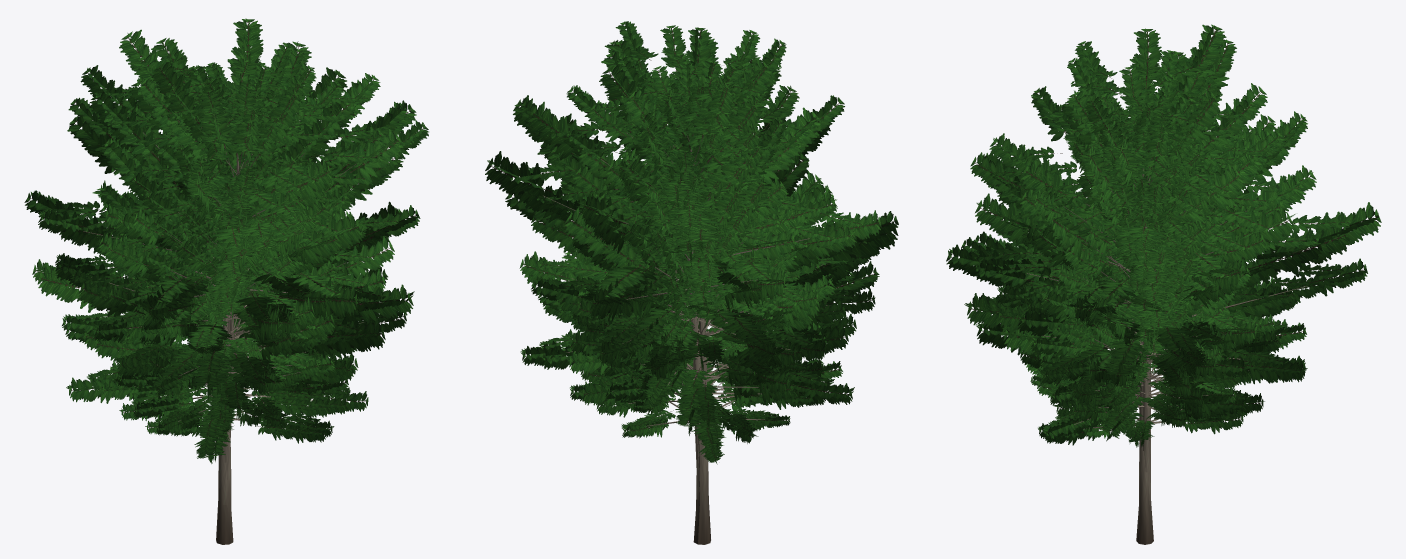
File: tree_tropical.glb
The picture shows the model from 3 angles, left to right: view 1: azimuth 30°, elevation 25°; view 2: azimuth 150°, elevation 25°; view 3: azimuth 270°, elevation 25°; orthographic projection. The views are drawn at different scales.
Visible parts, largest first — view 1: V2_LOD0, V1_LOD0, V3_LOD0, V0_LOD0; view 2: V2_LOD0, V1_LOD0, V3_LOD0, V0_LOD0; view 3: V2_LOD0, V1_LOD0, V3_LOD0, V0_LOD0.
Boxes of the visible parts, left/top/right/bottom form: V2_LOD0: left=24, top=18, right=428, bottom=544; V1_LOD0: left=55, top=127, right=406, bottom=544; V3_LOD0: left=65, top=157, right=394, bottom=544; V0_LOD0: left=99, top=248, right=348, bottom=544; V2_LOD0: left=485, top=21, right=898, bottom=544; V1_LOD0: left=531, top=117, right=880, bottom=544; V3_LOD0: left=543, top=155, right=849, bottom=544; V0_LOD0: left=572, top=258, right=821, bottom=503; V2_LOD0: left=946, top=24, right=1381, bottom=544; V1_LOD0: left=978, top=131, right=1306, bottom=544; V3_LOD0: left=1025, top=202, right=1275, bottom=543; V0_LOD0: left=1020, top=260, right=1253, bottom=502.
Size of what is drawn, in the model's own units: 30.44 by 38.17 by 31.25.
Materials: 2 (2 with a texture image).
